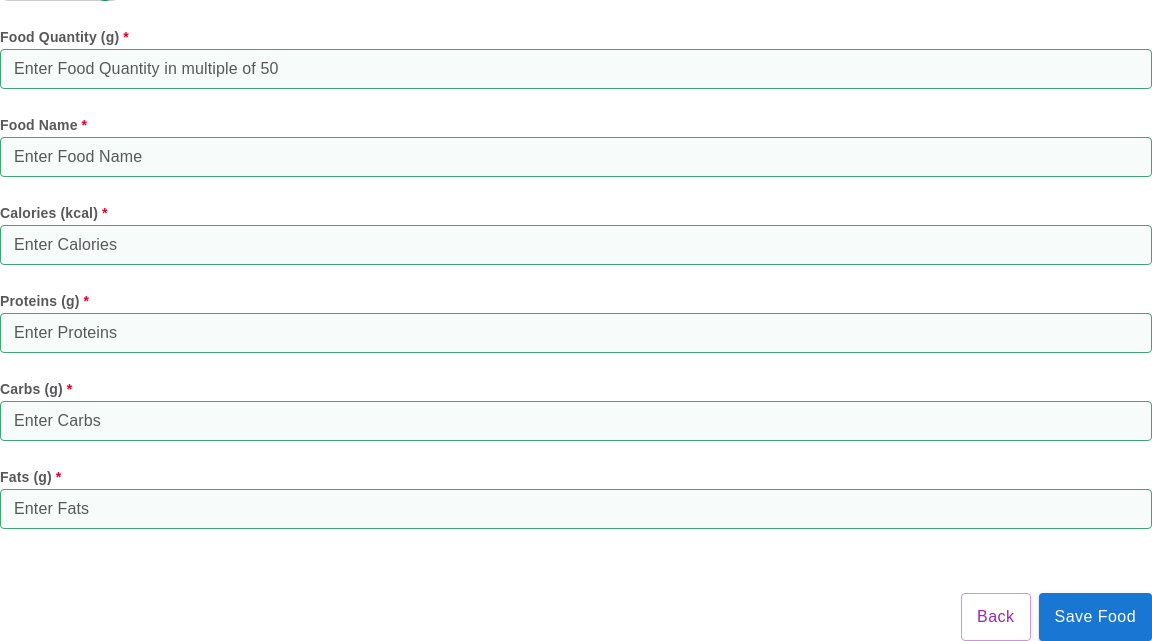
Test case: AddFoodForm › shows validation errors on empty submit
The width and height of the screenshot is (1152, 641).
(page scrolled)
What coordinates should you click on to do the following:
click the button "Save Food"
I would click on:
 (1095, 617)
Its box is [1038,593,1151,640].
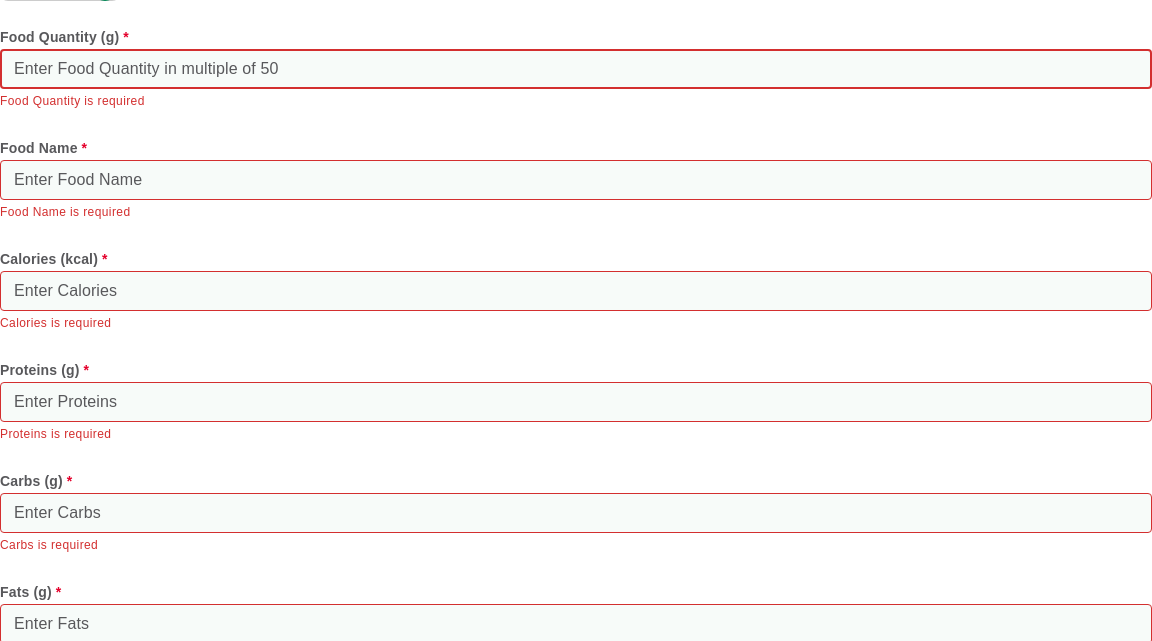
Result: the text "Food Quantity is required" is shown at [0,94,145,108]
Result: the text "Calories is required" is shown at [0,316,111,330]
Result: the text "Proteins is required" is shown at [0,427,111,441]
